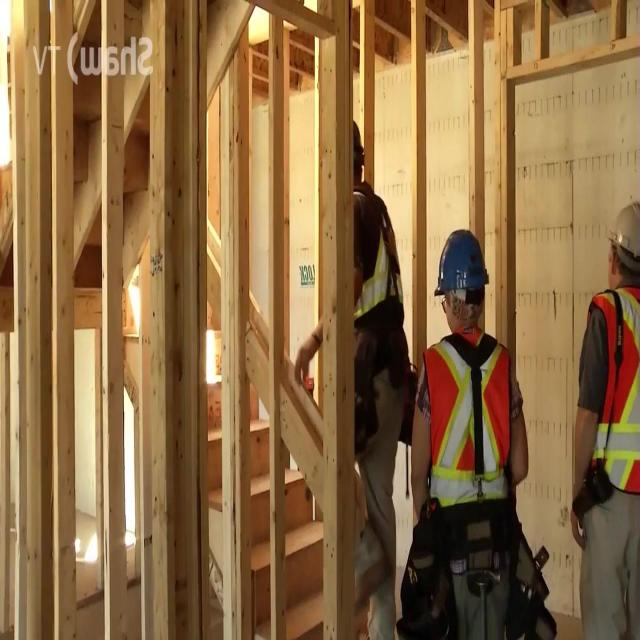Reflective-Jacket: (402, 329, 532, 538), (566, 280, 640, 515), (330, 182, 414, 366)
Safety-Helmet: (429, 218, 497, 313), (314, 106, 370, 181), (599, 187, 640, 278)
